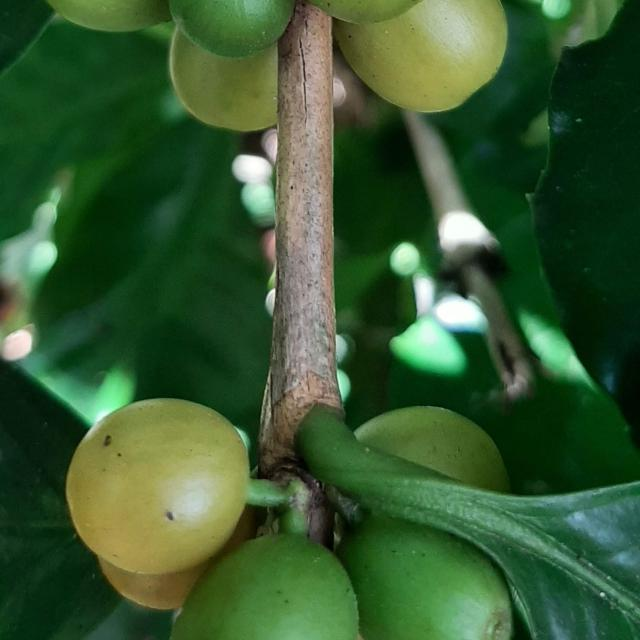green: (337, 514, 514, 640), (170, 534, 359, 640), (355, 407, 511, 493), (169, 0, 294, 57), (46, 0, 171, 30)
yellow: (65, 399, 250, 575), (334, 0, 508, 112), (169, 28, 277, 131)
